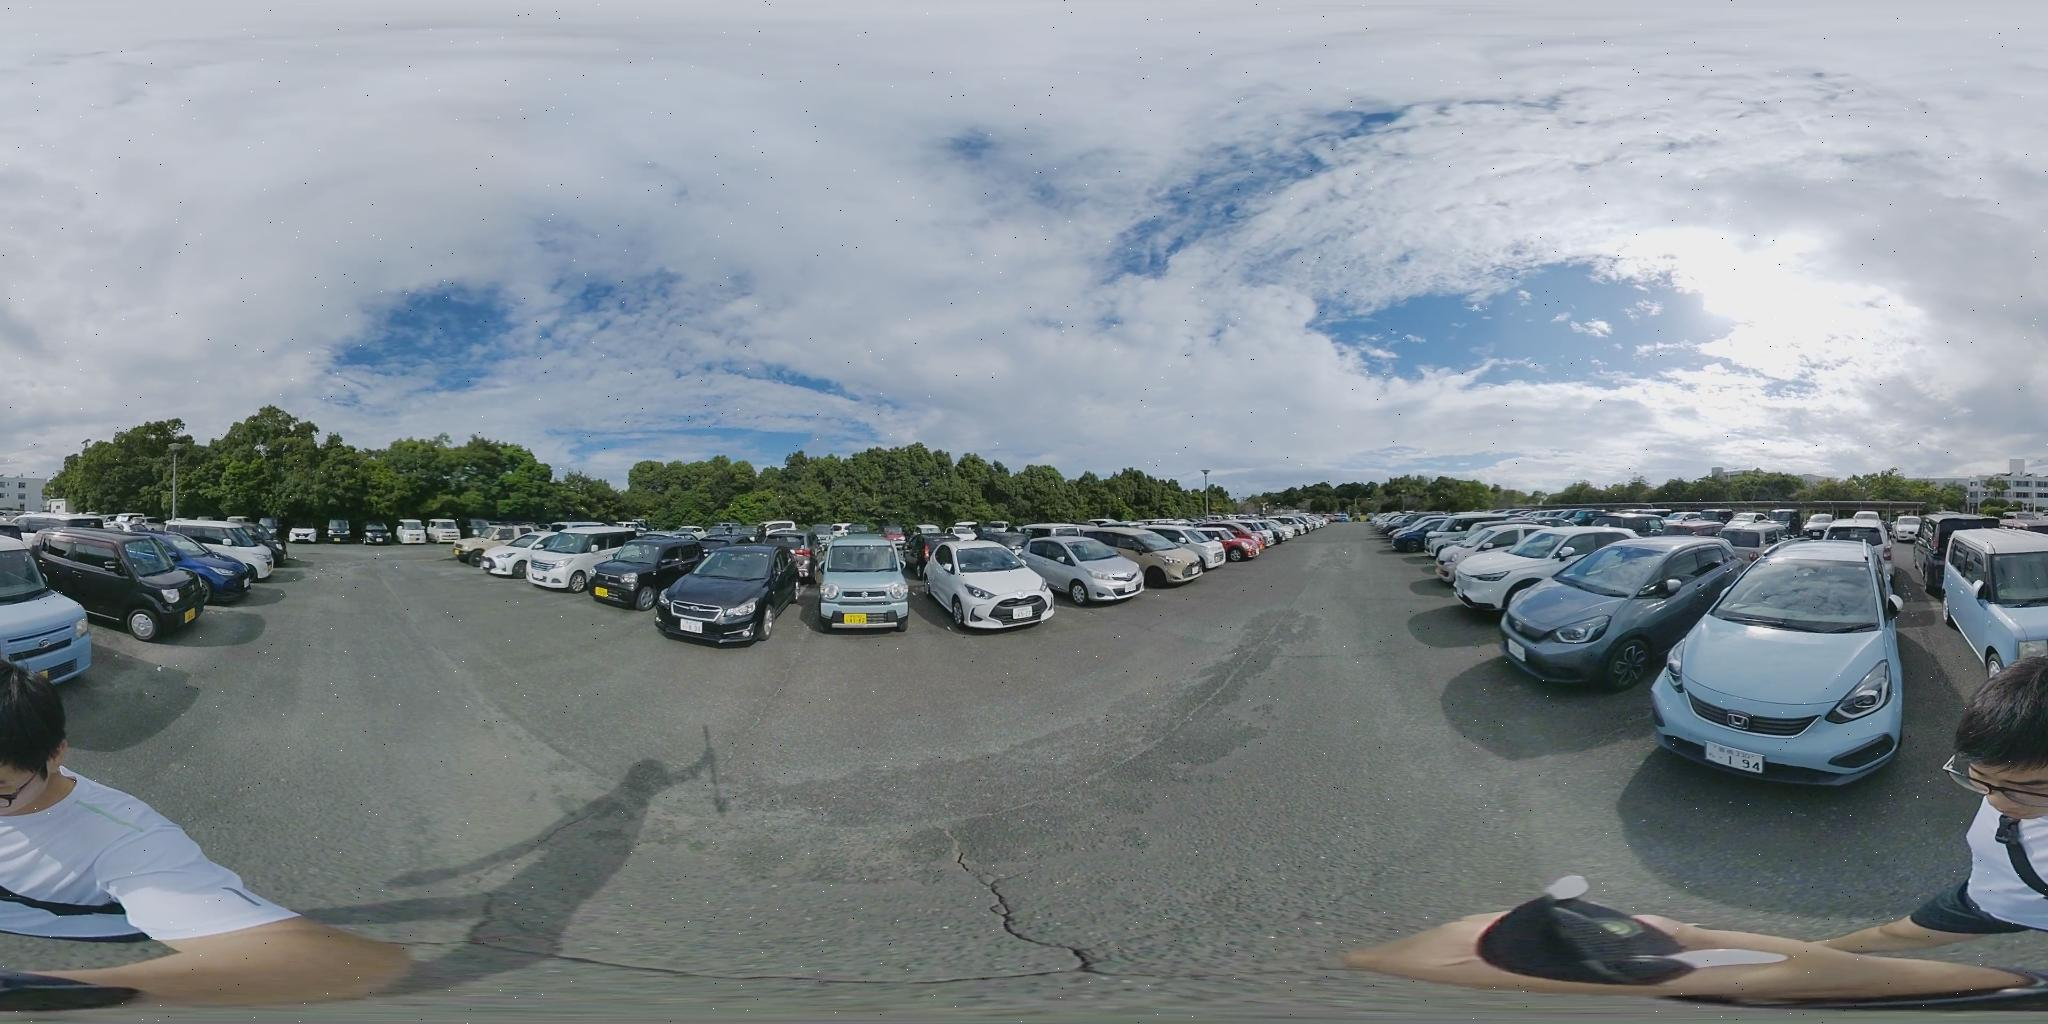car: (1637, 536, 1915, 781), (1492, 532, 1757, 690), (38, 530, 223, 631), (1443, 530, 1647, 614), (652, 546, 786, 650), (921, 538, 1059, 635), (584, 539, 711, 611), (1020, 536, 1152, 602), (822, 537, 910, 633), (492, 532, 643, 586), (1084, 524, 1225, 580), (166, 522, 281, 581)
